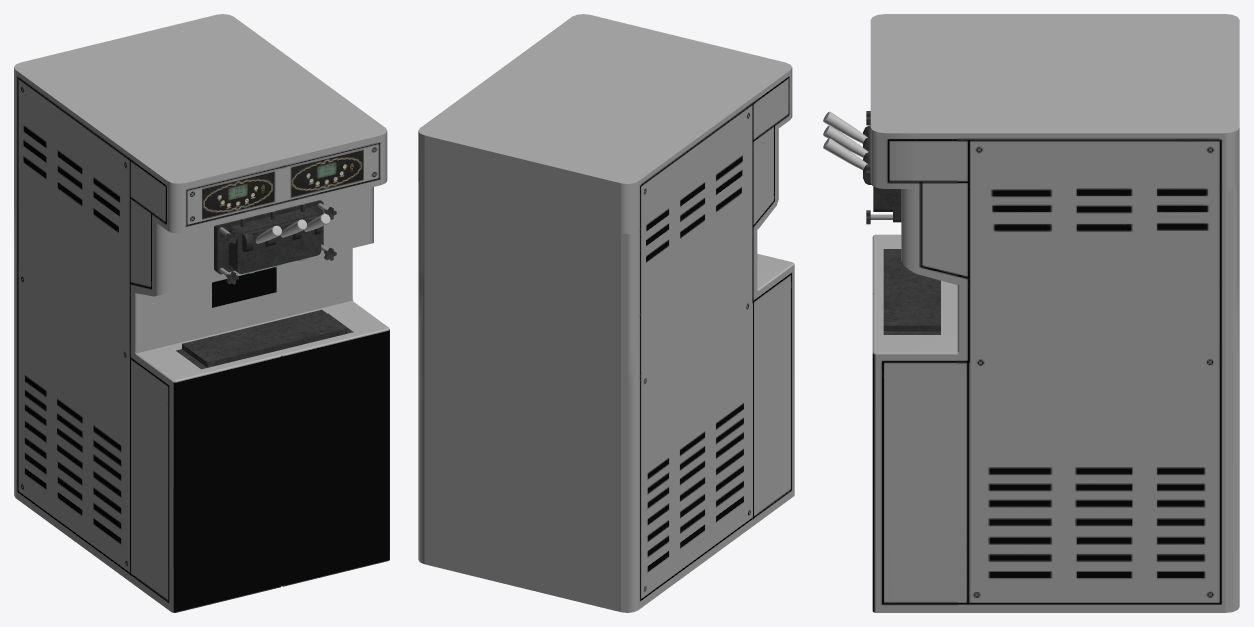
The model's file is Ice Cream Machine.fbx.
3 renders of one model, left to right at view 1: azimuth 30°, elevation 25°; view 2: azimuth 150°, elevation 25°; view 3: azimuth 270°, elevation 25°, orthographic. The views are drawn at different scales.
Visible parts, largest first — view 1: Ice_Cream_Machine1; view 2: Ice_Cream_Machine1; view 3: Ice_Cream_Machine1.
Part boxes in pixels (box(x1,y1,x2,y2)): Ice_Cream_Machine1: box(14, 14, 389, 612); Ice_Cream_Machine1: box(418, 14, 794, 612); Ice_Cream_Machine1: box(823, 14, 1239, 612).
Size of the model in its own units: 98.67 by 185 by 146.
Materials: 2 (2 with a texture image).
